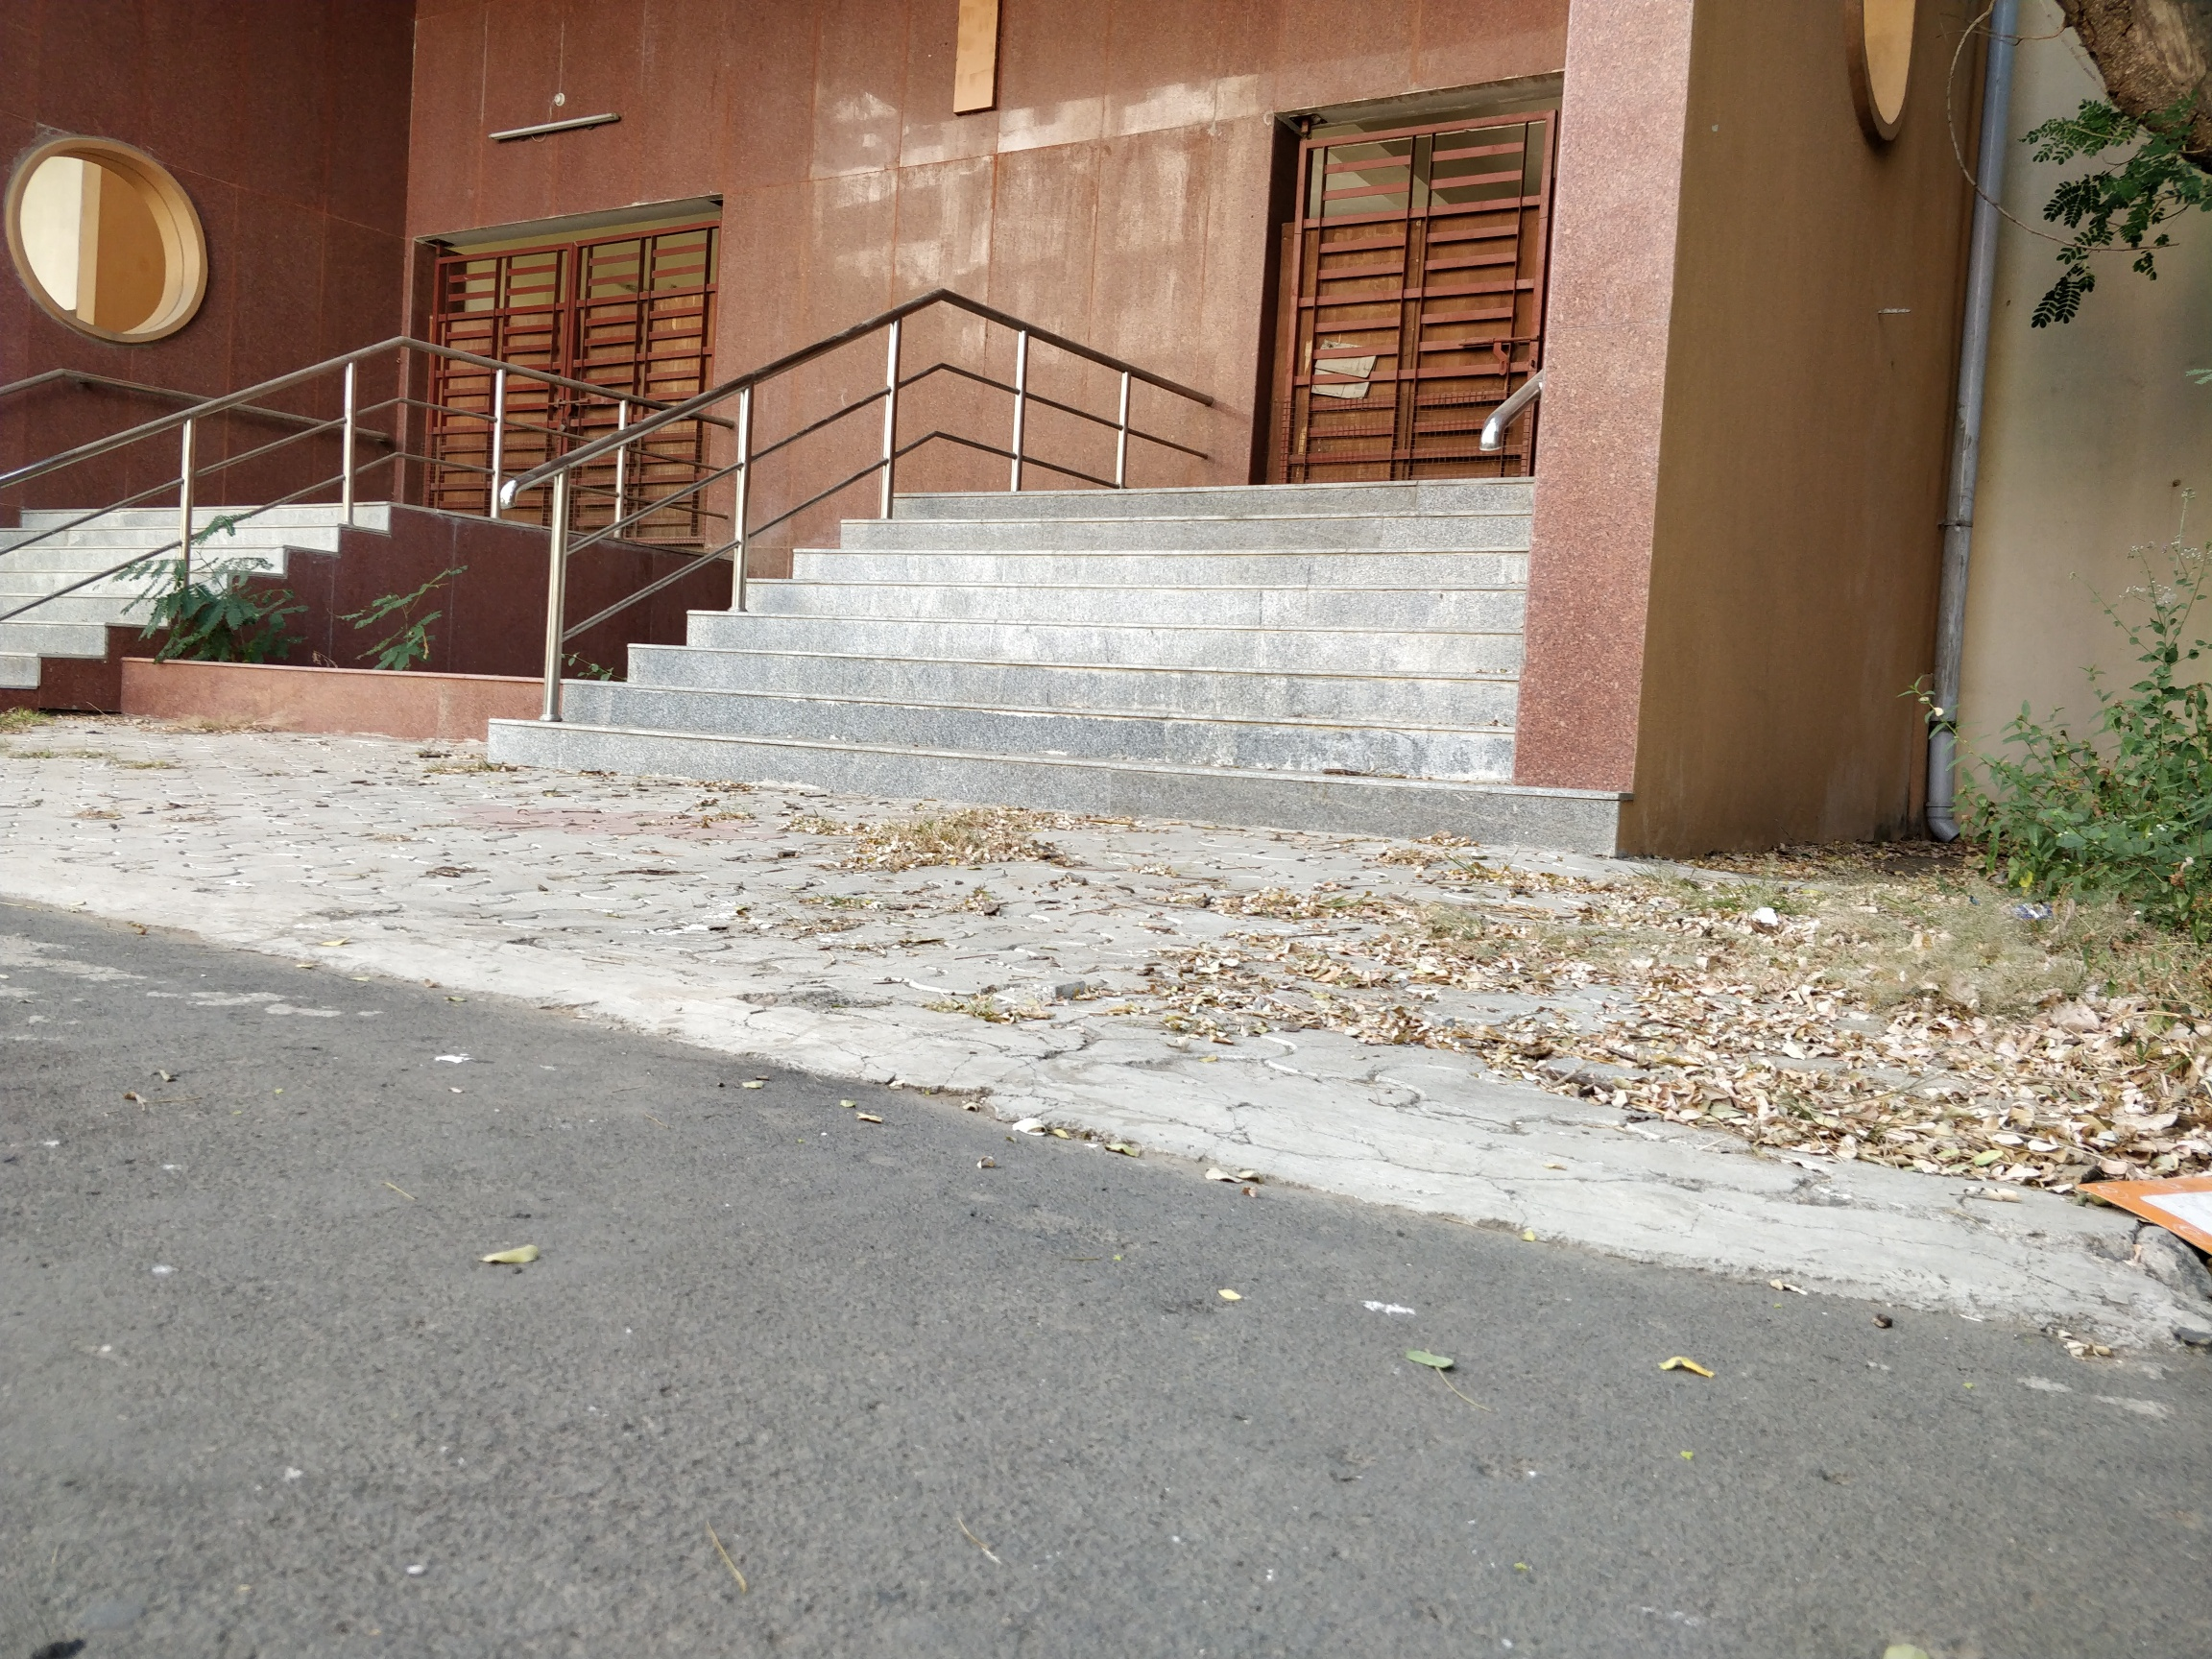stairs_up: (568, 474, 1540, 796), (2, 484, 394, 725)
